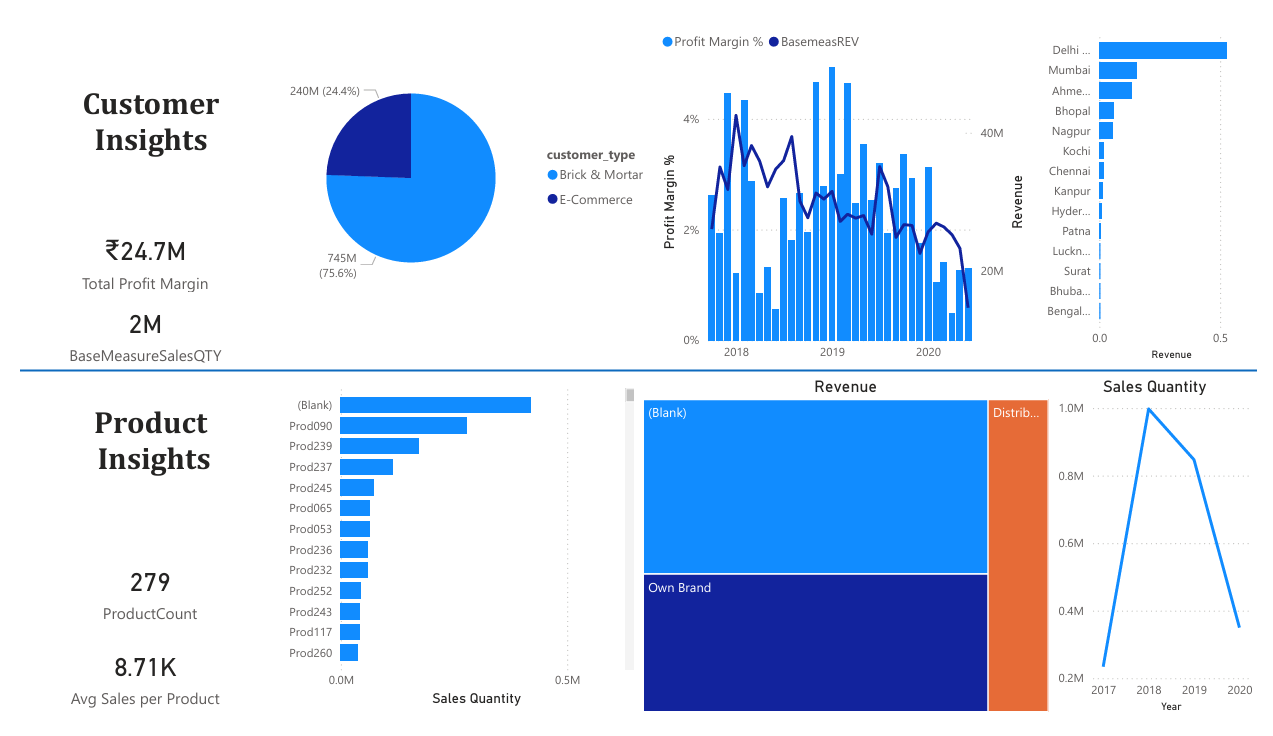

The page's visual inventory and layout, read from the dashboard file:
{"tool":"powerbi","page":{"name":"Customer and Product","canvas":[1280,720],"ordinal":2},"visuals":[{"type":"card","fields":{"Values":["BaseMeasures (2).BaseMeasureSalesQTY"]},"box":[0,283.7,259.3,76.7],"z":0},{"type":"card","fields":{"Values":["BaseMeasures (2).Total Profit Margin"]},"box":[0,210.5,259.3,73.3],"z":1000},{"type":"barChart","fields":{"Category":["sales markets.markets_name"],"Y":["BaseMeasures (2).BM_Rev%"]},"box":[1045.4,0,234.9,354.7],"z":2000},{"type":"lineStackedColumnComboChart","fields":{"Y":["BaseMeasures (2).Profit Margin %"],"Y2":["BaseMeasures (2).BasemeasREV"],"Category":["sales date.cy_date"]},"box":[659.3,0,386,360.5],"z":3000},{"type":"pieChart","fields":{"Category":["sales customers.customer_type"],"Y":["BaseMeasures (2).BasemeasREV"]},"box":[259.3,8.1,400,307],"z":4000},{"type":"shape","box":[0,354.7,1280.2,12.8],"z":6000},{"type":"card","fields":{"Values":["BaseMeasures (2).ProductCount"]},"box":[0,544.2,268.6,90.7],"z":6001},{"type":"card","fields":{"Values":["BaseMeasures (2).Avg Sales per Product"]},"box":[0,634.9,259.3,84.9],"z":6002},{"type":"barChart","fields":{"Category":["sales products.product_code"],"Y":["BaseMeasures (2).Sales Qty"]},"box":[268.6,367.4,370.9,346.5],"z":6003},{"type":"treemap","title":"Revenue","fields":{"Group":["sales products.product_type"],"Values":["BaseMeasures (2).BasemeasREV"]},"box":[639.5,367.4,429.1,352.3],"z":6004},{"type":"lineChart","title":"Sales Quantity","fields":{"Category":["sales date.cy_date.Variation.Date Hierarchy.Year","sales date.cy_date.Variation.Date Hierarchy.Quarter","sales date.cy_date.Variation.Date Hierarchy.Month","sales date.cy_date.Variation.Date Hierarchy.Day"],"Y":["BaseMeasures (2).BaseMeasureSalesQTY"]},"box":[1068.6,367.4,211.6,352.3],"z":6005},{"type":"textbox","box":[54.7,60.5,161.6,87.2],"z":6006},{"type":"textbox","box":[12.8,390.7,244.2,88.4],"z":6007}]}

Visuals, with their boxes in screenshot pixels (x1, y1, x2, y2), scaled from the page's 1280x720 canvas onto the 1273x736 screenshot:
card - BaseMeasures (2).BaseMeasureSalesQTY: bbox=[0, 290, 258, 368]
card - BaseMeasures (2).Total Profit Margin: bbox=[0, 215, 258, 290]
barChart - sales markets.markets_name x BaseMeasures (2).BM_Rev%: bbox=[1040, 0, 1272, 363]
lineStackedColumnComboChart - BaseMeasures (2).Profit Margin % x BaseMeasures (2).BasemeasREV: bbox=[656, 0, 1040, 369]
pieChart - sales customers.customer_type x BaseMeasures (2).BasemeasREV: bbox=[258, 8, 656, 322]
shape: bbox=[0, 363, 1272, 376]
card - BaseMeasures (2).ProductCount: bbox=[0, 556, 267, 649]
card - BaseMeasures (2).Avg Sales per Product: bbox=[0, 649, 258, 735]
barChart - sales products.product_code x BaseMeasures (2).Sales Qty: bbox=[267, 376, 636, 730]
"Revenue" treemap: bbox=[636, 376, 1063, 735]
"Sales Quantity" lineChart: bbox=[1063, 376, 1272, 735]
textbox: bbox=[54, 62, 215, 151]
textbox: bbox=[13, 399, 256, 490]
